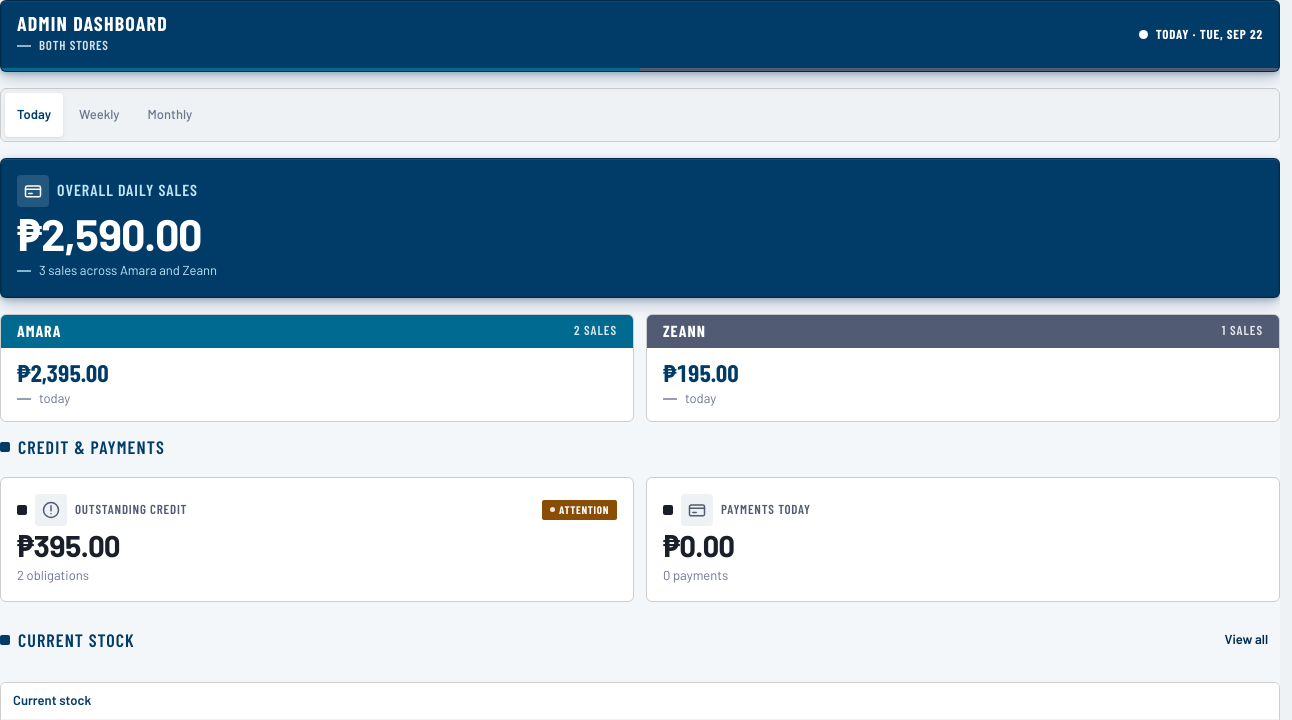
Test case: AdminDashboardPage › switches between Today, Weekly, and Monthly sales tabs
Expected: the text "Overall daily sales" is shown, [57,182,198,199]
Click the radio button labelled "Weekly".
click(99, 115)  # box [67,93,132,137]
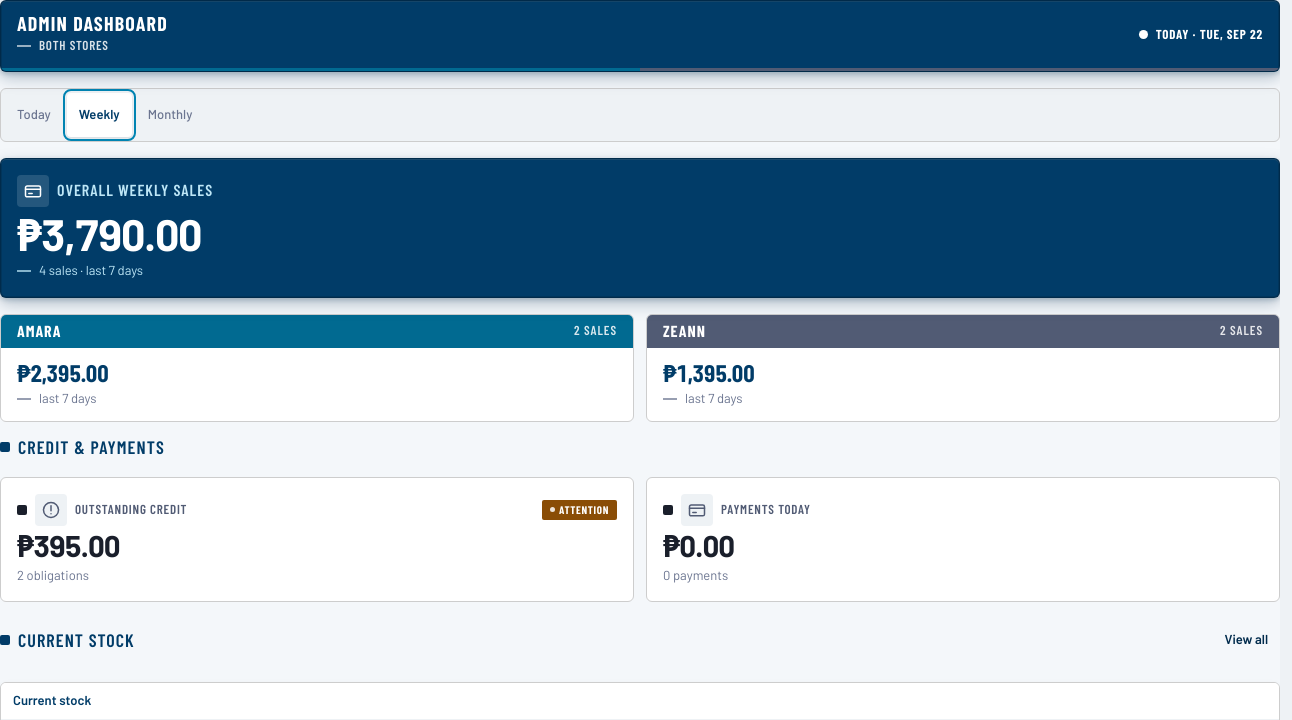
Expected: the text "Overall weekly sales" is shown, [57,182,213,199]
Expected: the text "4 sales · last 7 days" is shown, [39,262,143,278]
Expected: the text "₱3,790.00" is shown, [17,207,201,260]
Click the radio button labelled "Monthly".
click(170, 115)  # box [136,93,204,137]
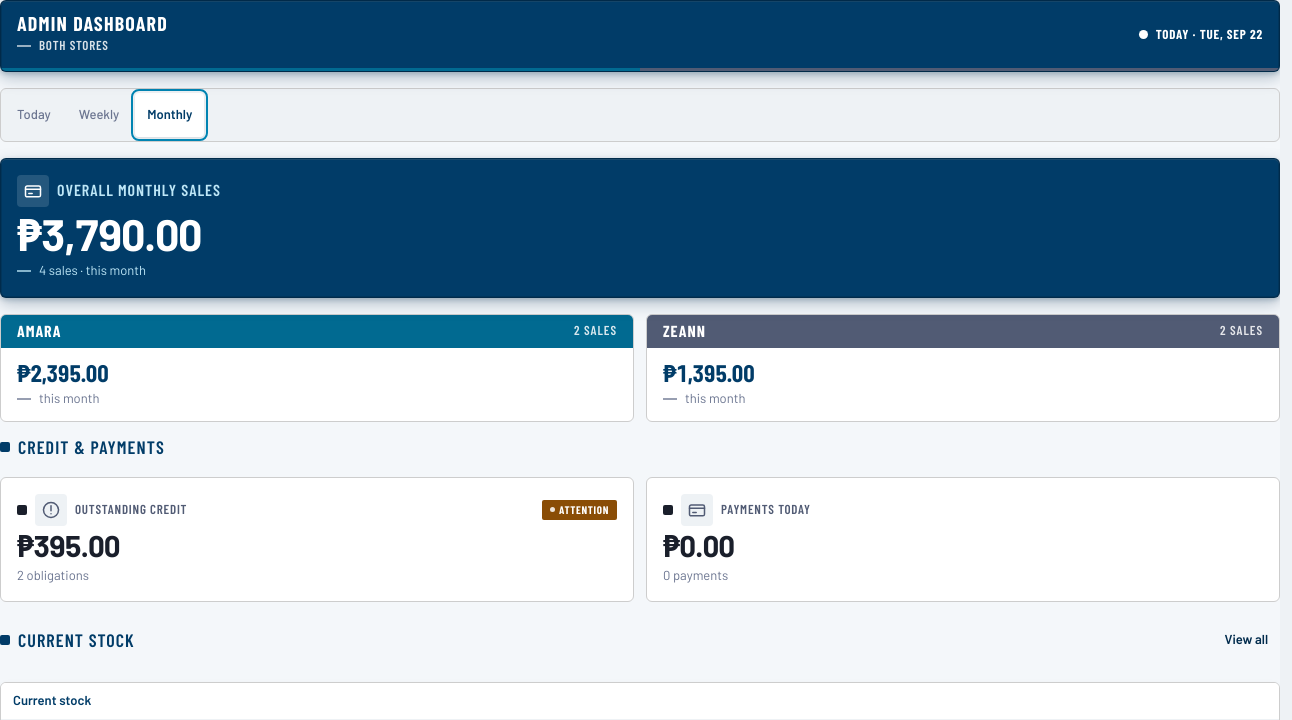
Expected: the text "Overall monthly sales" is shown, [57,182,221,199]
Expected: the text "4 sales · this month" is shown, [39,262,146,278]
Click the radio button labelled "Today".
click(34, 115)  # box [5,93,63,137]
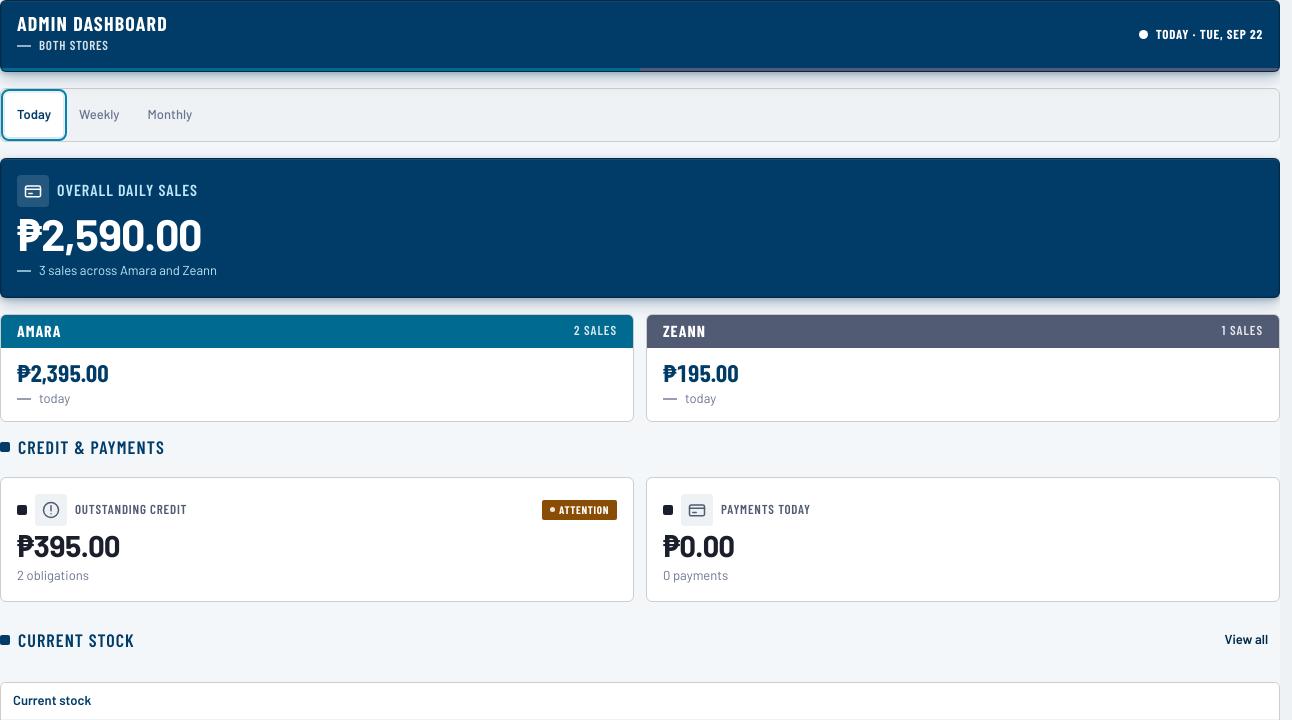
Expected: the text "Overall daily sales" is shown, [57,182,198,199]
